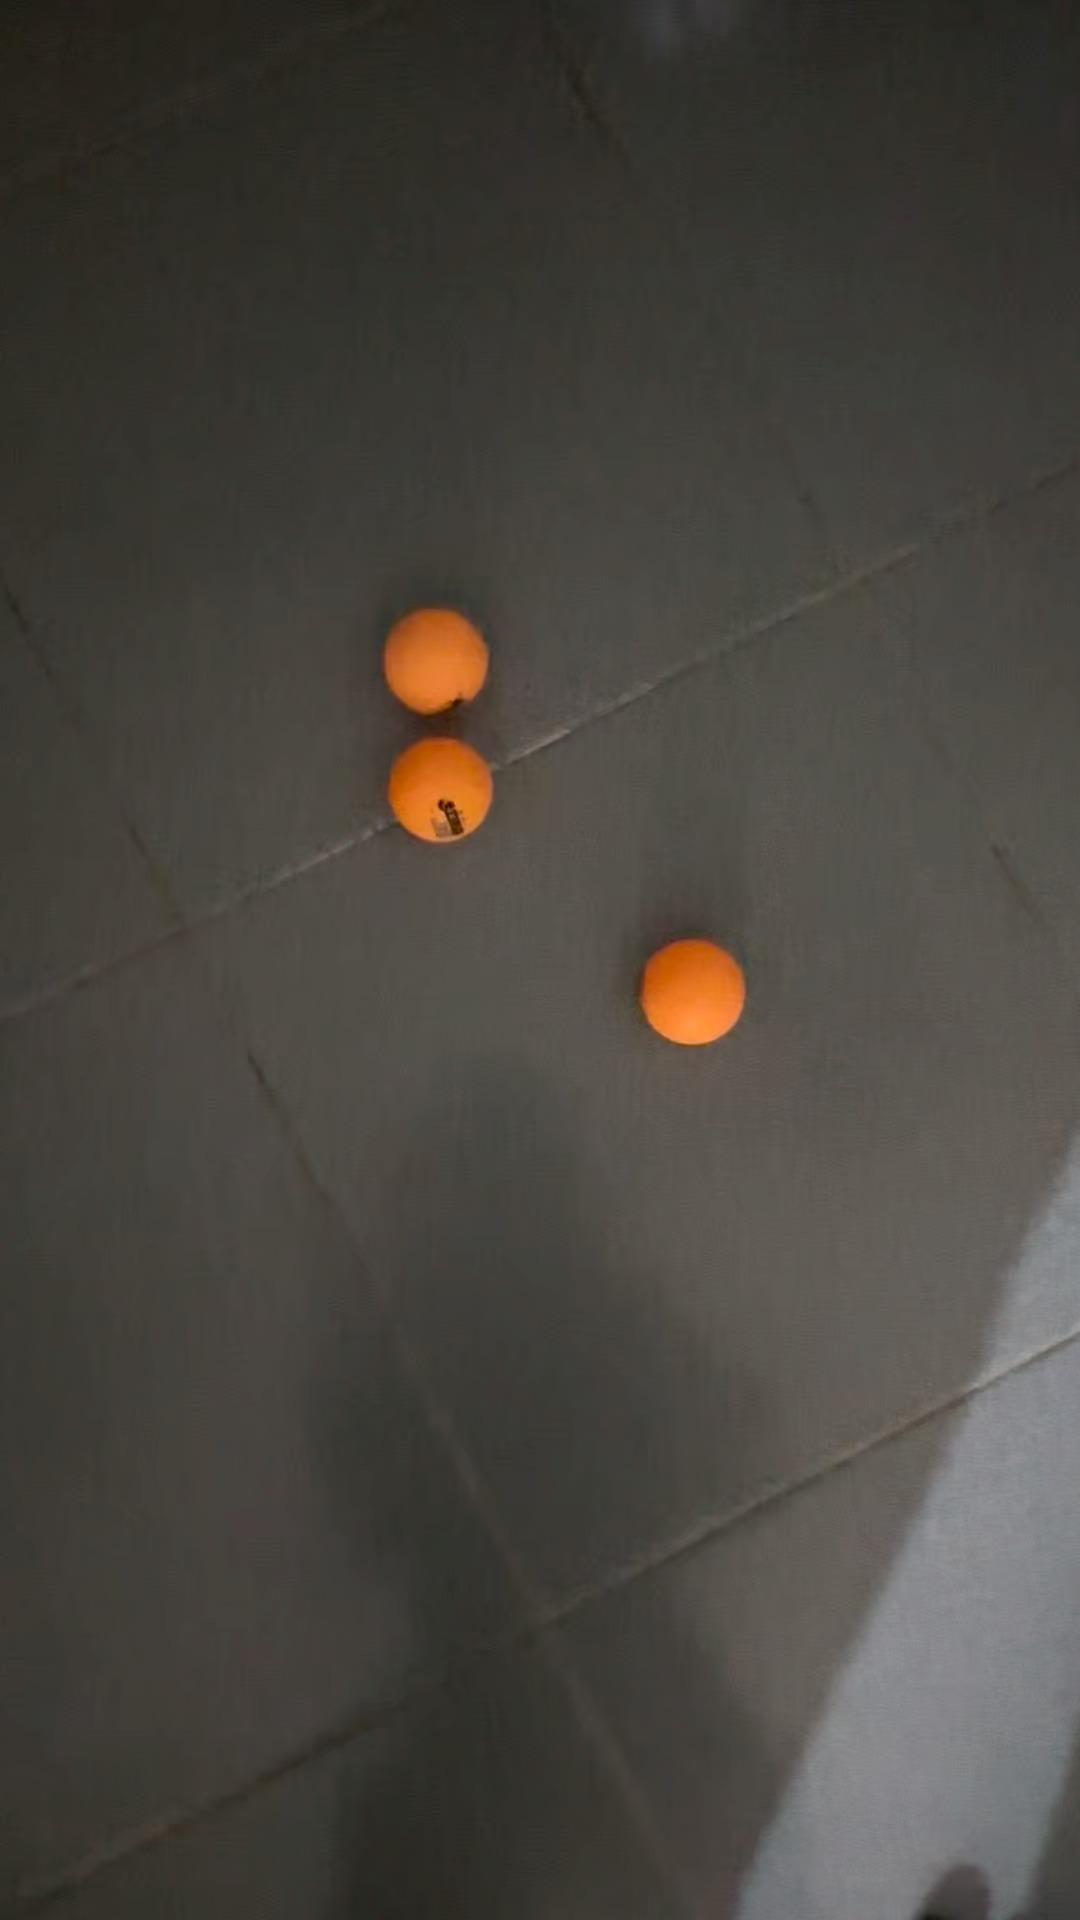oball: (629, 922, 766, 1059), (384, 594, 502, 724), (391, 721, 502, 844)
